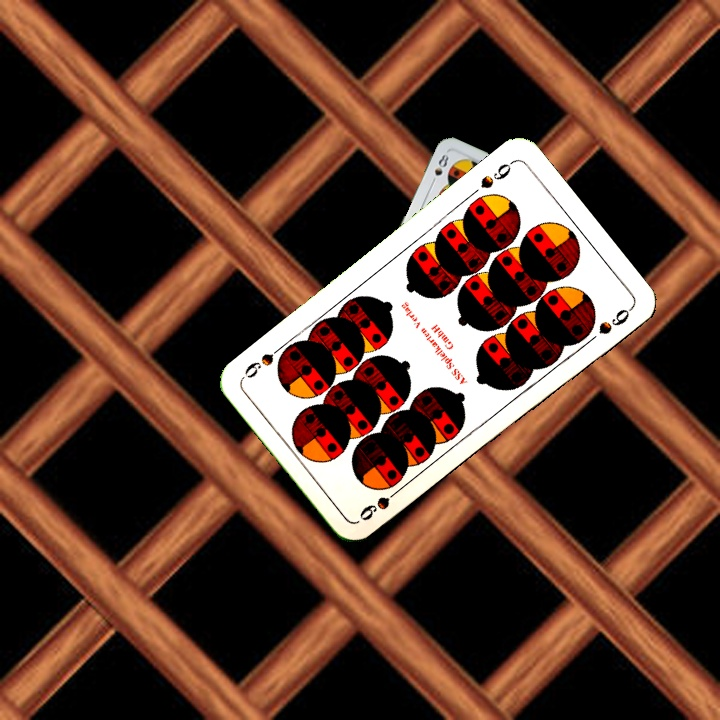S8: (426, 150, 451, 188)
S9: (355, 482, 406, 524), (476, 156, 517, 192)
